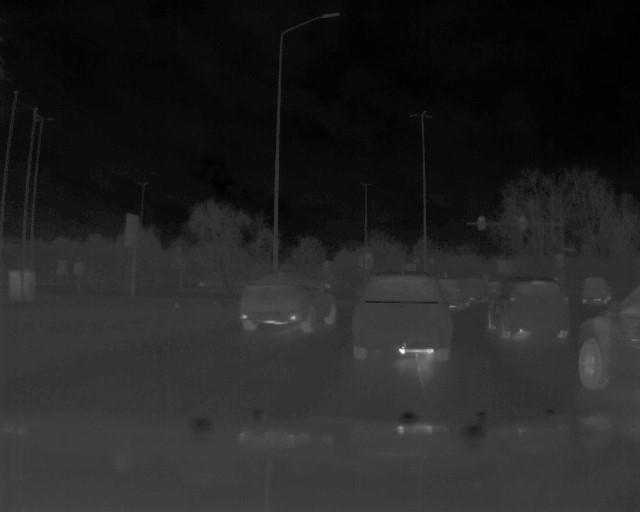car: (353, 273, 454, 364), (238, 270, 337, 335), (486, 275, 576, 343), (578, 289, 640, 387), (581, 275, 612, 307)
